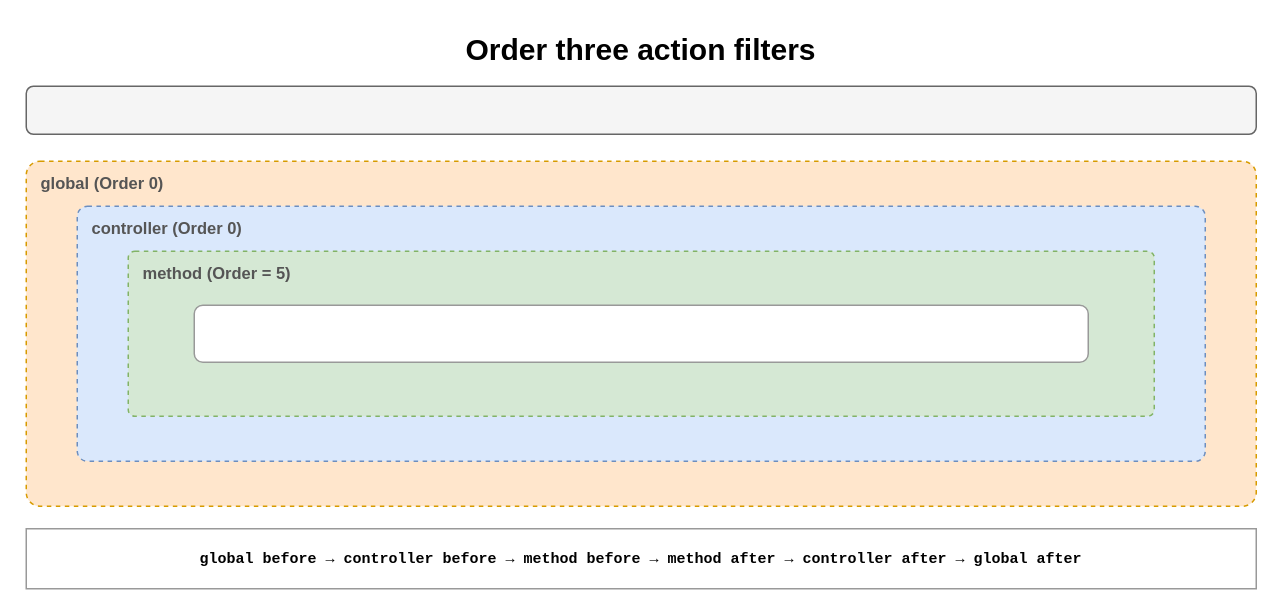
The diagram is 1283 pixels wide and 615 high, and some of its shapes have lost their labels. Each missing label, with the centre of its shape:
"Equal Order sorts by scope; Order = 5 puts the method filter innermost" belongs at (640,109).
"RankController.Get()" belongs at (640,333).
